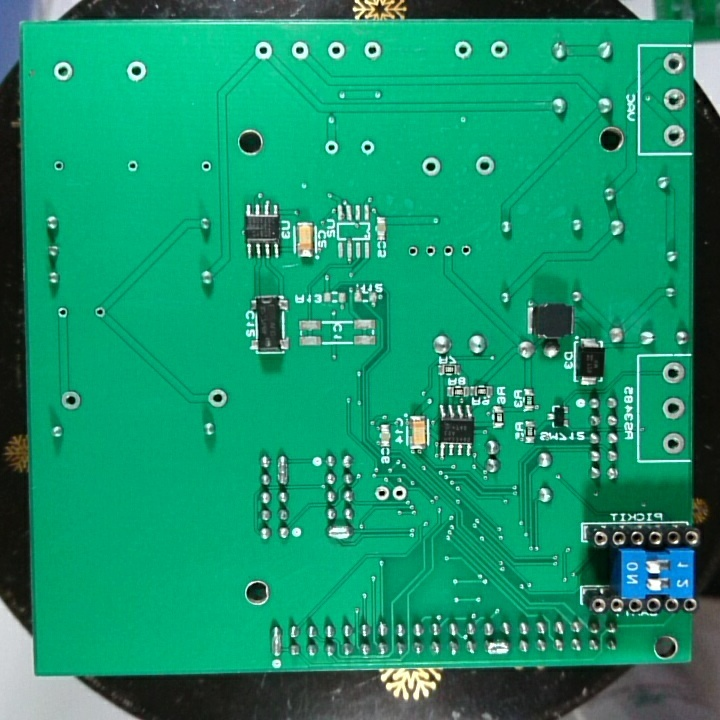F: (123, 56, 151, 86), (659, 49, 687, 78), (660, 394, 688, 422), (660, 121, 687, 149), (471, 153, 499, 180), (659, 359, 687, 386), (661, 86, 688, 113), (659, 429, 686, 456), (51, 58, 77, 86), (417, 154, 445, 179), (205, 386, 230, 412), (251, 38, 276, 63), (59, 388, 83, 414), (325, 38, 348, 64), (451, 37, 474, 62), (488, 38, 511, 63), (361, 38, 385, 61), (289, 38, 311, 63), (321, 136, 343, 157), (371, 483, 390, 506), (390, 482, 409, 505), (358, 138, 378, 158), (439, 240, 457, 260), (421, 242, 439, 261), (457, 240, 474, 260), (405, 243, 422, 261), (91, 304, 108, 321), (125, 157, 141, 175), (198, 157, 214, 175), (55, 304, 71, 321), (51, 157, 66, 175)
P: (482, 637, 513, 658), (324, 523, 354, 543), (268, 621, 283, 658), (275, 451, 291, 485)
